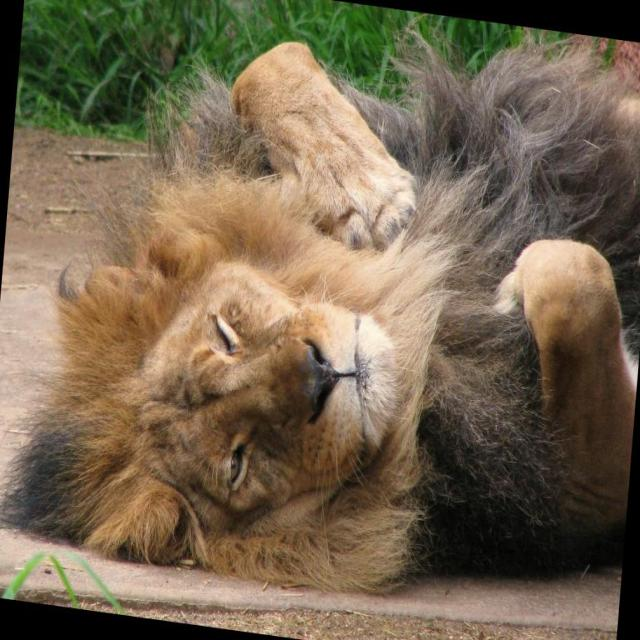Lion: (0, 0, 639, 631)
